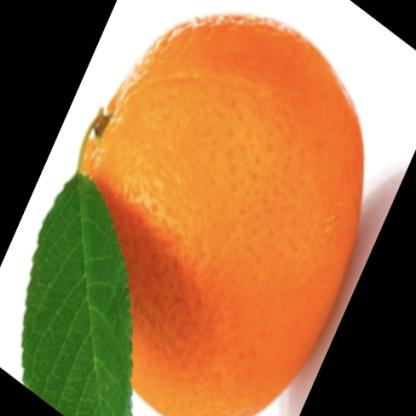fresh: (68, 17, 364, 416)
